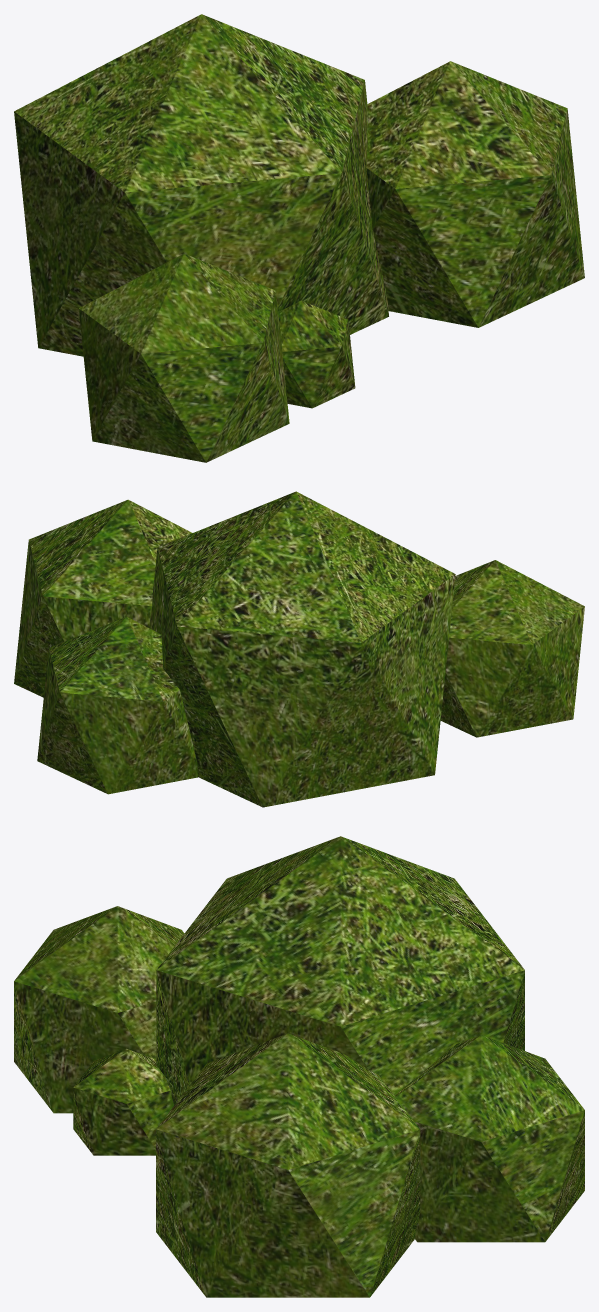
The model's file is Arbusto.fbx.
The picture shows the model from 3 angles, top to bottom: view 1: azimuth 30°, elevation 25°; view 2: azimuth 150°, elevation 25°; view 3: azimuth 270°, elevation 25°; orthographic projection. The views are drawn at different scales.
Visible parts, largest first — view 1: Arbusto; view 2: Arbusto; view 3: Arbusto.
Boxes of the visible parts, box(x1,y1,x2,y2) form: Arbusto: box(14, 14, 584, 462); Arbusto: box(14, 491, 584, 807); Arbusto: box(14, 836, 584, 1297).
Bounding box in the file's own units: 135 × 68.29 × 117.
